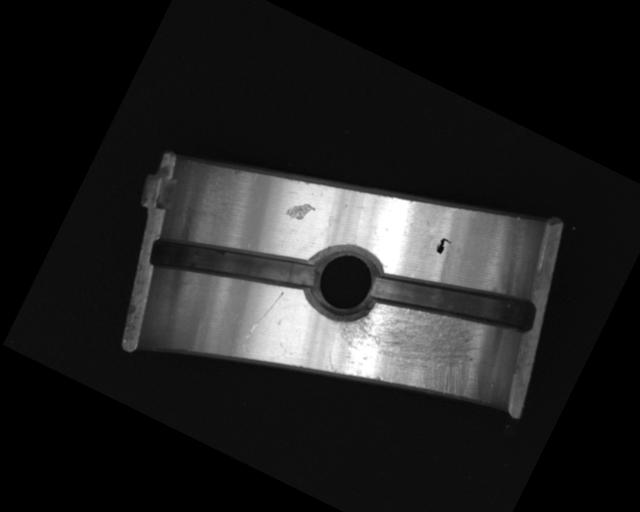blot: (433, 235, 453, 257)
bruise: (283, 195, 316, 227)
gap: (145, 196, 320, 330), (366, 236, 541, 369)
hole: (299, 233, 393, 330)
nick: (245, 285, 284, 343)
scratch: (315, 260, 509, 433)
